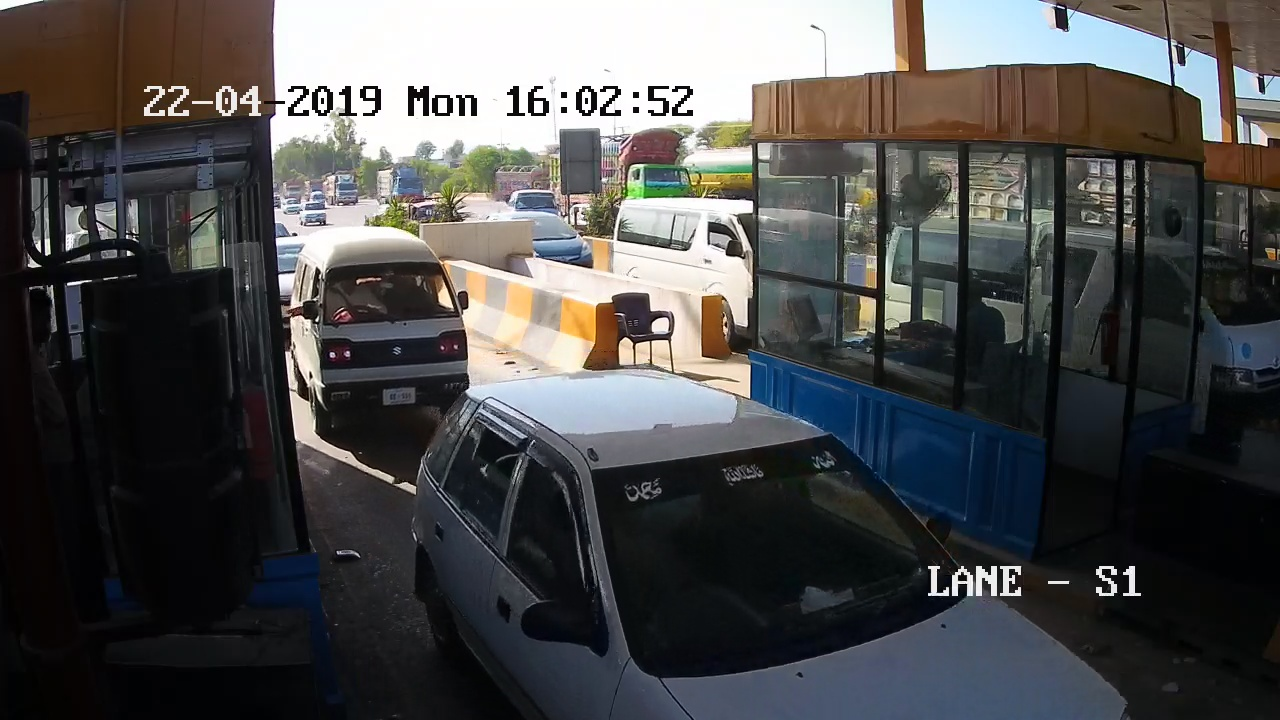Number Plate (Car): (378, 387, 419, 407)
